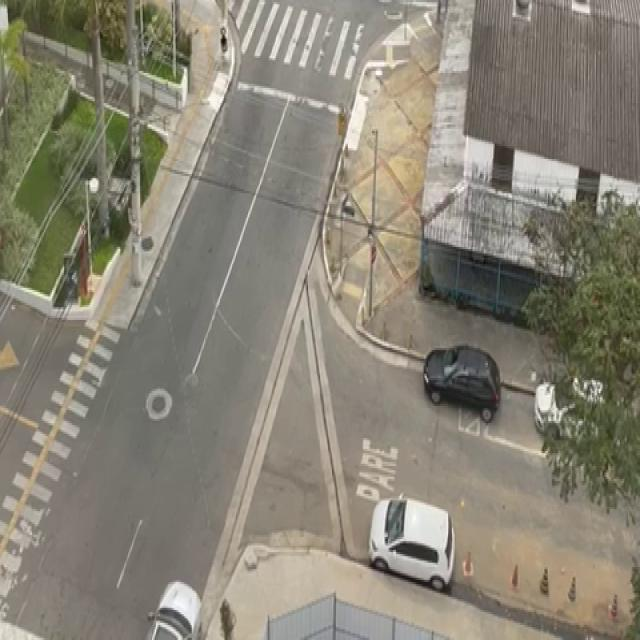car: (360, 490, 461, 600), (423, 329, 504, 424), (144, 571, 203, 640)
